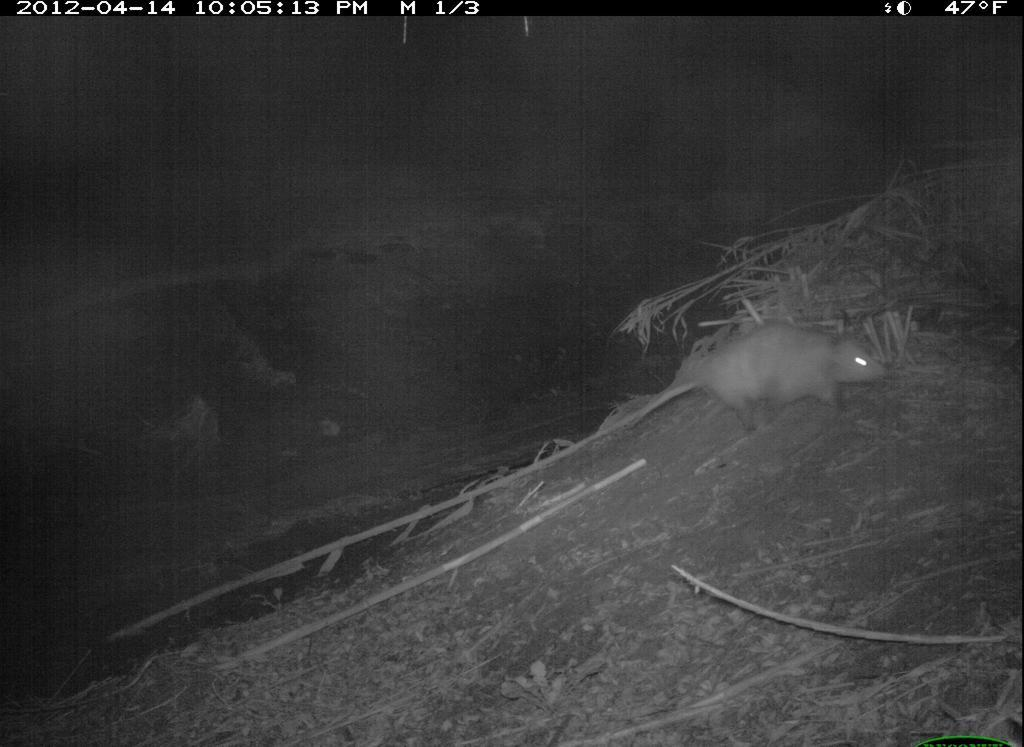opossum: (615, 319, 884, 434)
